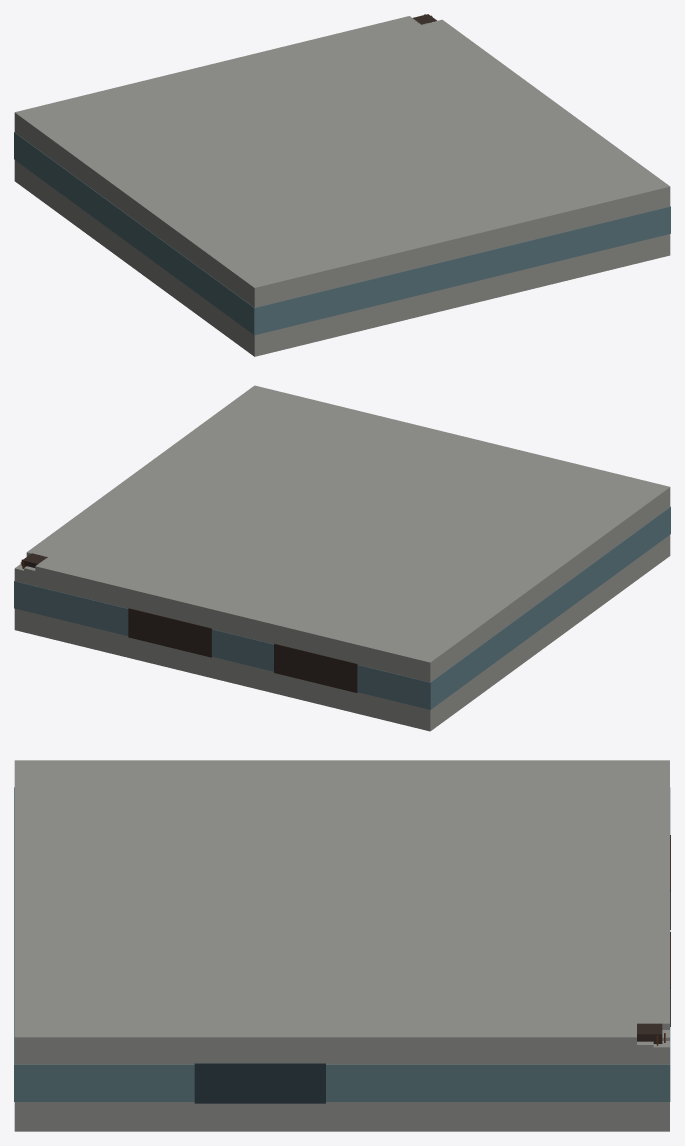
The model's file is tw_slab_24_floor_c_lod1.glb.
3 renders of one model, top to bottom at view 1: azimuth 30°, elevation 25°; view 2: azimuth 150°, elevation 25°; view 3: azimuth 270°, elevation 25°, orthographic. The views are drawn at different scales.
Visible parts, largest first — view 1: tw_slab_24_floor_c_lod1; view 2: tw_slab_24_floor_c_lod1; view 3: tw_slab_24_floor_c_lod1.
Part boxes in pixels (box(x1,y1,x2,y2)): tw_slab_24_floor_c_lod1: box(14, 14, 670, 356); tw_slab_24_floor_c_lod1: box(14, 385, 670, 731); tw_slab_24_floor_c_lod1: box(14, 760, 670, 1131).
Bounding box in the file's own units: 24.06 × 3.8 × 24.06.
Materials: 2 (2 with a texture image).
